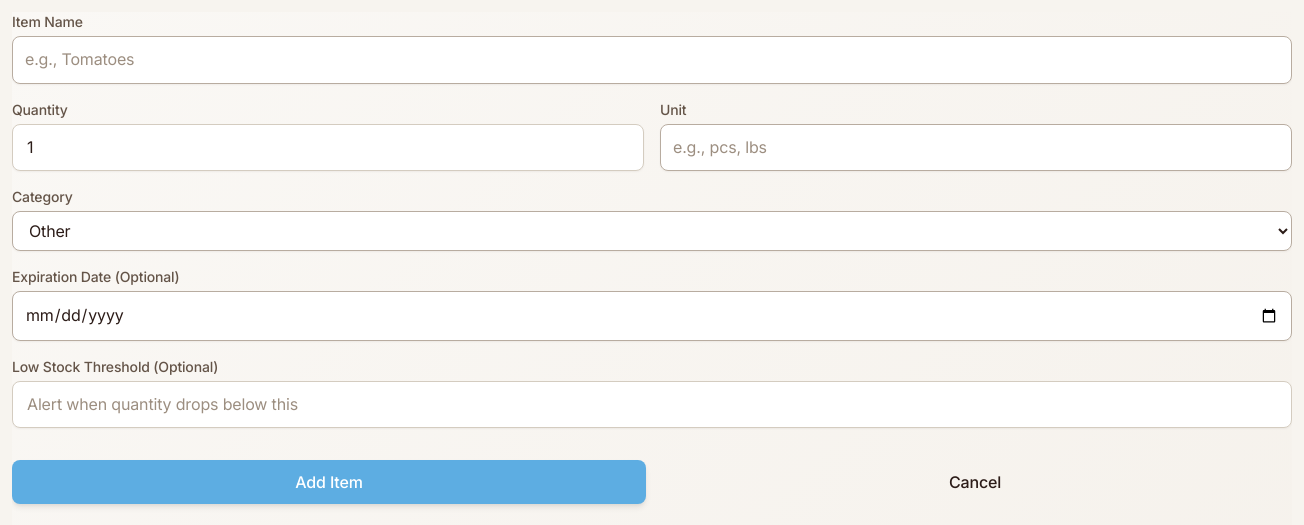
Test: AddPantryItemForm › resets form after successful submission
This screenshot has width=1304, height=525.
In the field labelled "Item Name": [652, 60] box [12, 36, 1292, 84], type "Test Item"
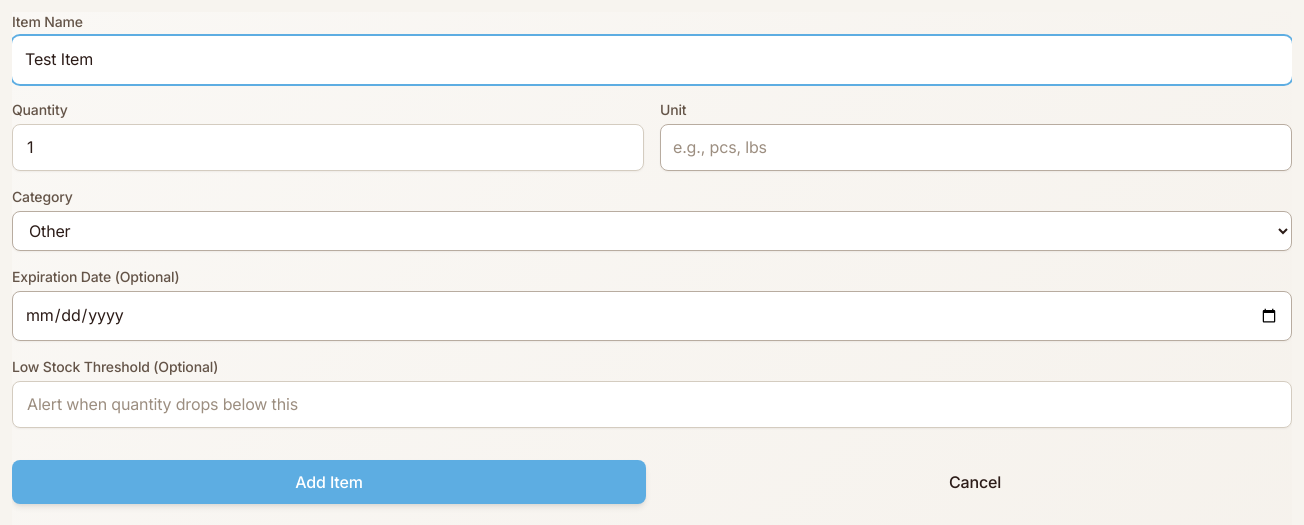
Replace the text in the number field labelled "Quantity" with "3": [328, 147] box [12, 124, 644, 171]
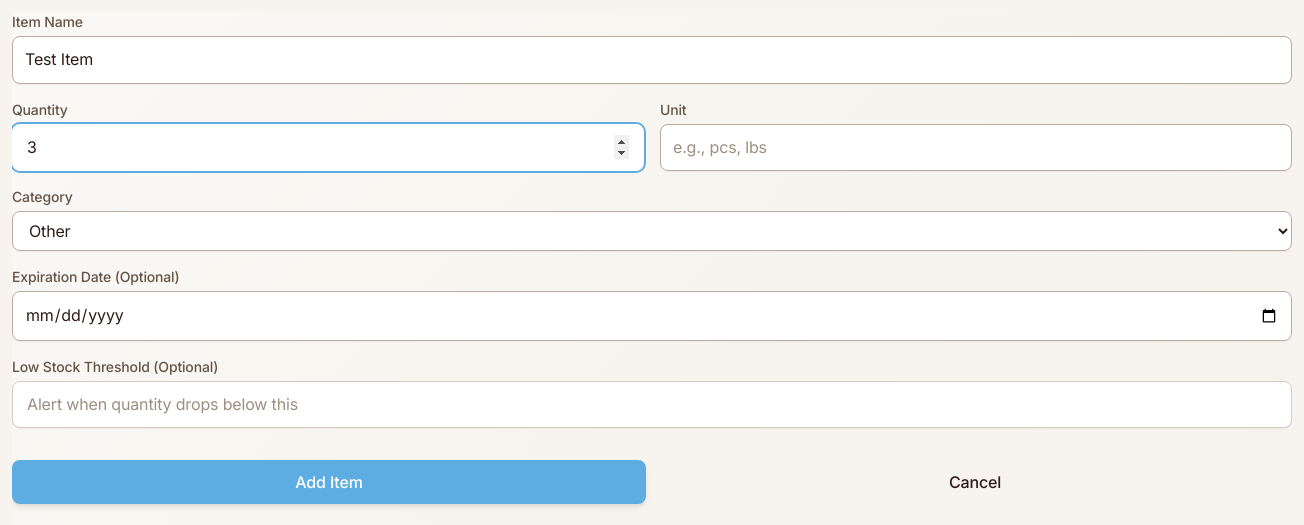
Click the button "Add Item": [329, 482] box [12, 460, 646, 504]
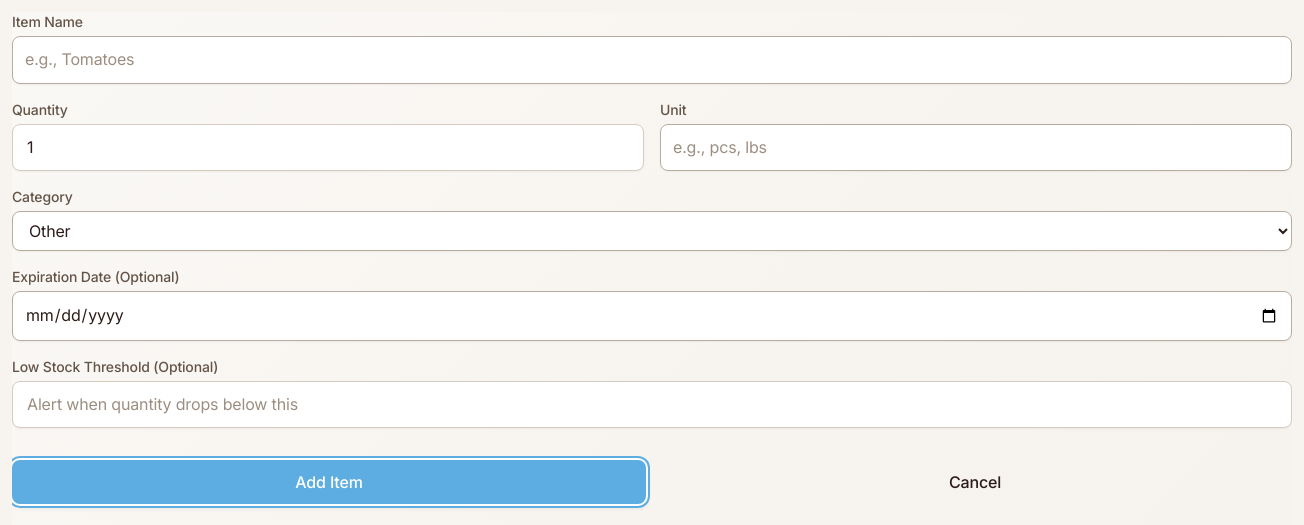
expect the field labelled "Item Name" is empty: met, box [12, 36, 1292, 84]
expect the number field labelled "Quantity" holds "1": met, box [12, 124, 644, 171]
